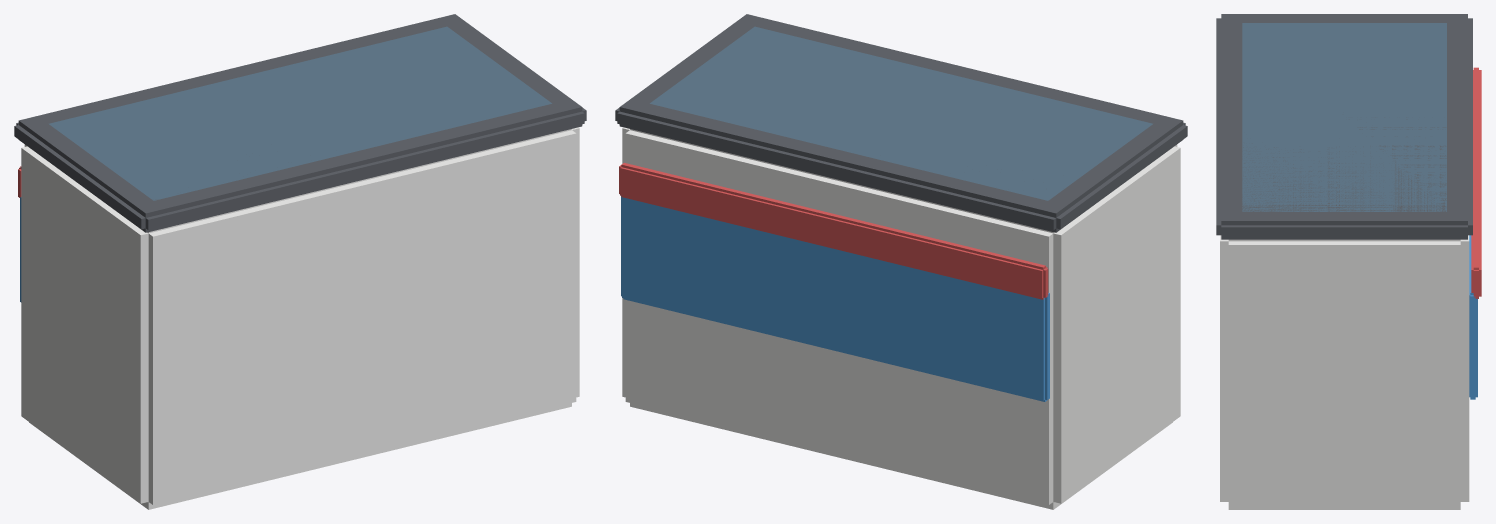
Rendered from Market_DondurmaDolabi.fbx.
3 views of the same model, side by side, from view 1: azimuth 30°, elevation 25°; view 2: azimuth 150°, elevation 25°; view 3: azimuth 270°, elevation 25° (orthographic). The views are drawn at different scales.
Visible parts, largest first — view 1: Market_DondurmaDolabi; view 2: Market_DondurmaDolabi; view 3: Market_DondurmaDolabi.
Boxes of the visible parts, box(x1,y1,x2,y2) form: Market_DondurmaDolabi: box(14, 14, 586, 509); Market_DondurmaDolabi: box(615, 14, 1187, 509); Market_DondurmaDolabi: box(1216, 14, 1481, 509).
Size of the model in its own units: 1.44 by 0.93 by 0.765.
